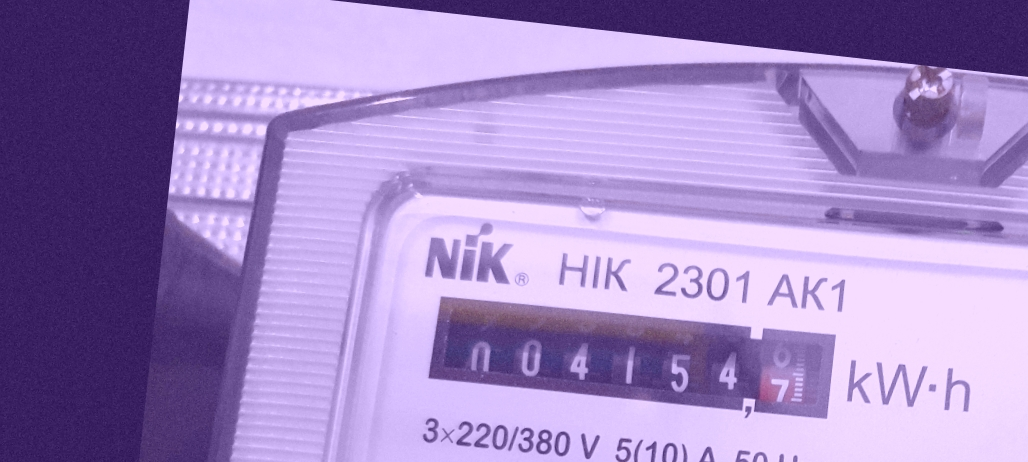0: (517, 335, 544, 379), (467, 336, 493, 372)
1: (621, 343, 638, 386)
4: (566, 339, 593, 382), (715, 346, 740, 392)
5: (665, 348, 694, 394)
6: (769, 338, 795, 370)
7: (766, 374, 790, 405)
screen: (411, 275, 854, 437)
